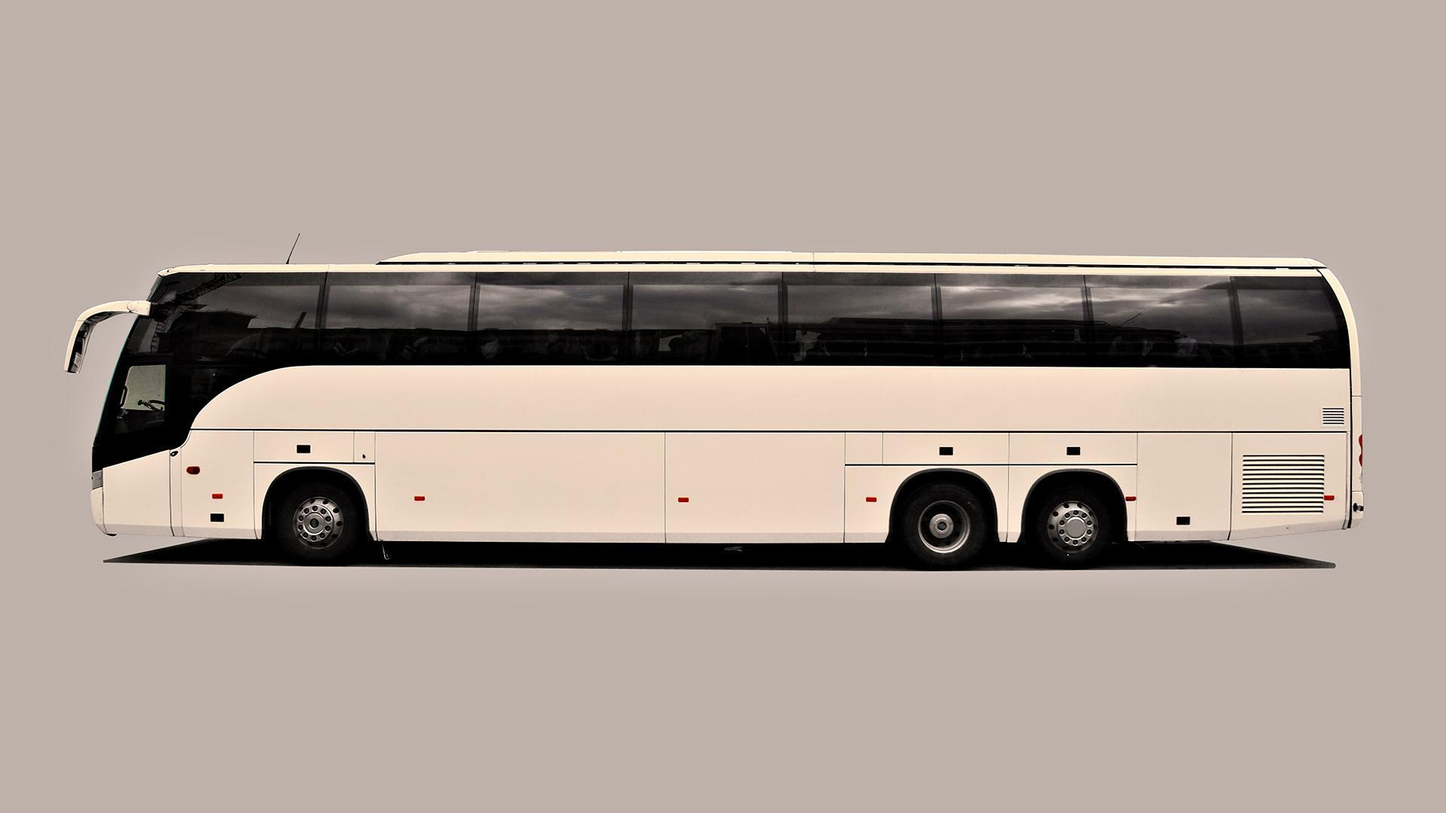Bus: (72, 251, 1366, 571)
